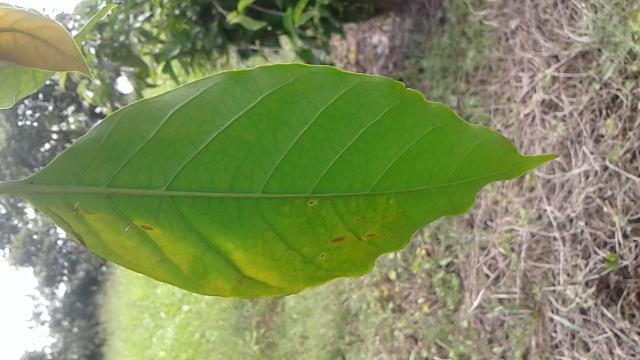rust_level_1: (24, 64, 544, 298)
